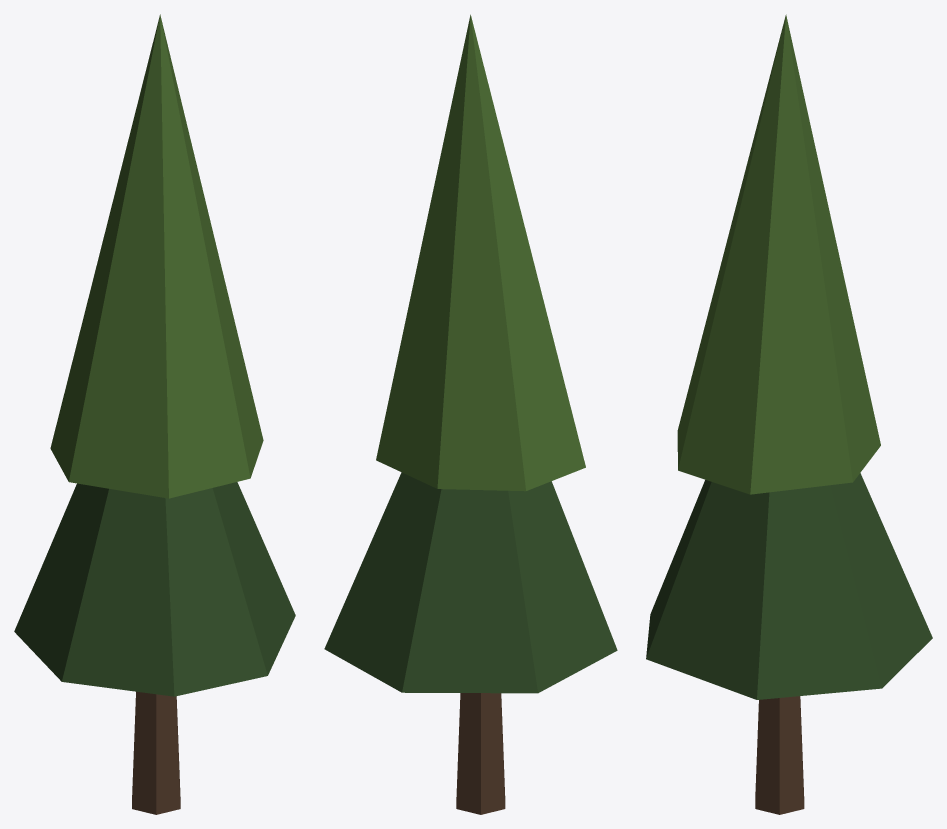
The model's file is Scenery_Conifer_B.fbx.
The picture shows the model from 3 angles, left to right: view 1: azimuth 30°, elevation 25°; view 2: azimuth 150°, elevation 25°; view 3: azimuth 270°, elevation 25°; orthographic projection.
Visible parts, largest first — view 1: Scenery_Conifer_B; view 2: Scenery_Conifer_B; view 3: Scenery_Conifer_B.
Boxes of the visible parts, x1,y1,x2,y2 form: Scenery_Conifer_B: (14, 14, 295, 814); Scenery_Conifer_B: (324, 14, 617, 814); Scenery_Conifer_B: (646, 14, 932, 814).
Bounding box in the file's own units: 2.69 × 8.3 × 2.72.
